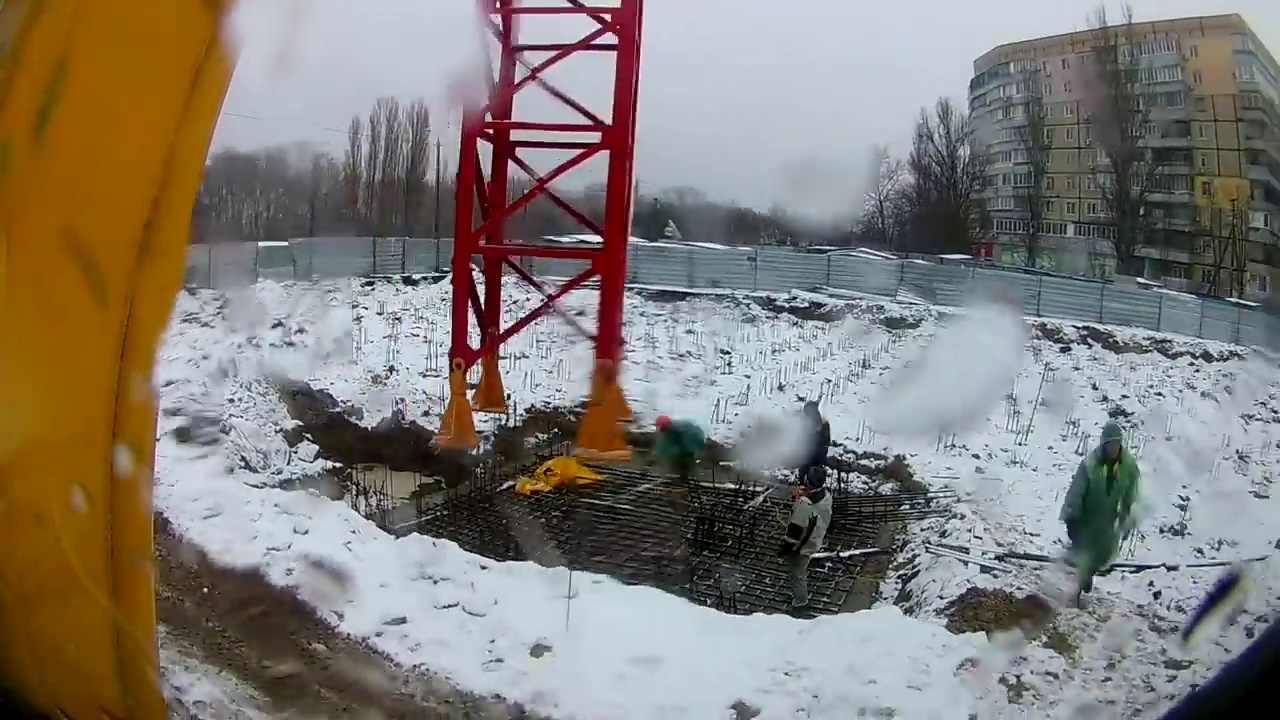helmet: (654, 417, 671, 430)
helmet-off: (1096, 421, 1130, 459), (796, 466, 828, 500), (803, 402, 822, 426)
helmet-on: (654, 414, 675, 436)
person: (1063, 421, 1143, 614), (787, 467, 830, 617), (653, 413, 706, 485), (793, 402, 831, 485)
